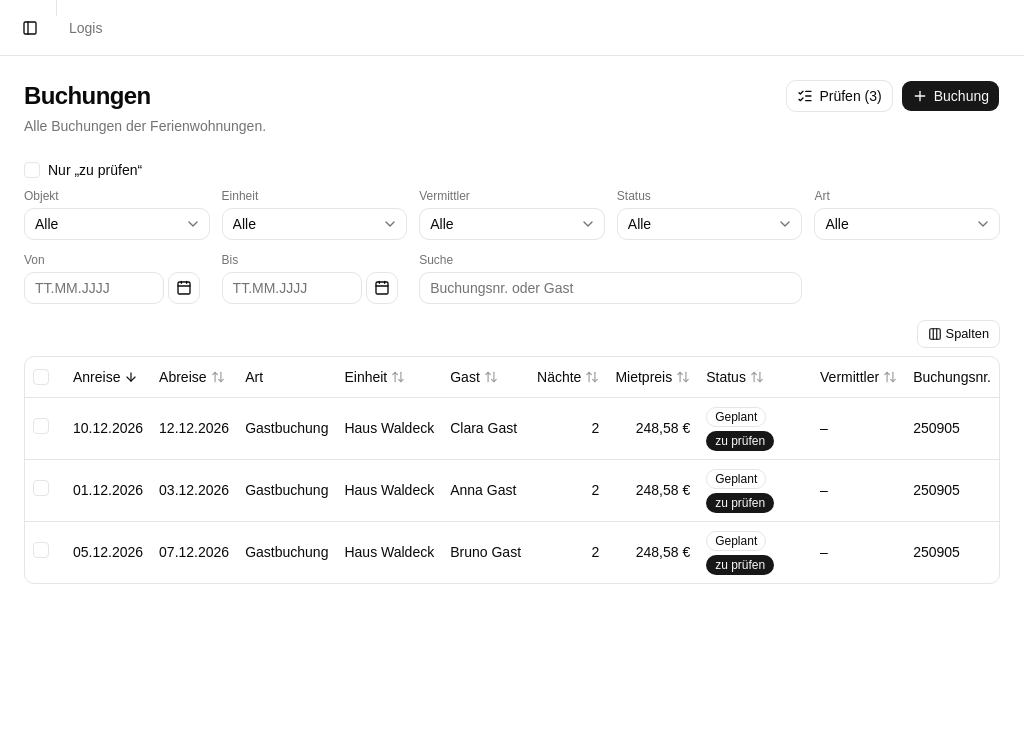
Test: Review mode › starts from the list and clicks through in order of arrival
Step 1. Click the button "Prüfen (3)" → coordinates (840, 96), box [786,80,893,112]
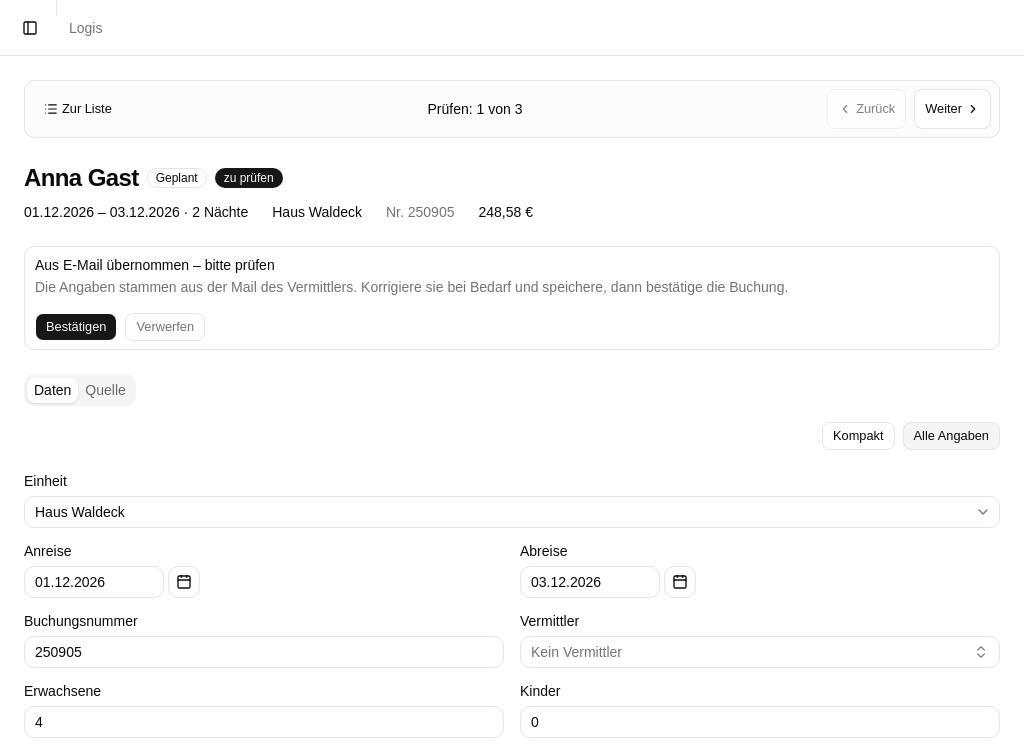
expect the heading "Anna Gast" is shown: met, box [24,162,139,194]
expect the navigation bar "Prüfen" shows "1 von 3": met, box [476,101,522,117]
expect the button "Zurück" is disabled: met, box [827,89,906,129]
Step 2. Click the button "Weiter" → coordinates (953, 109), box [914,89,991,129]
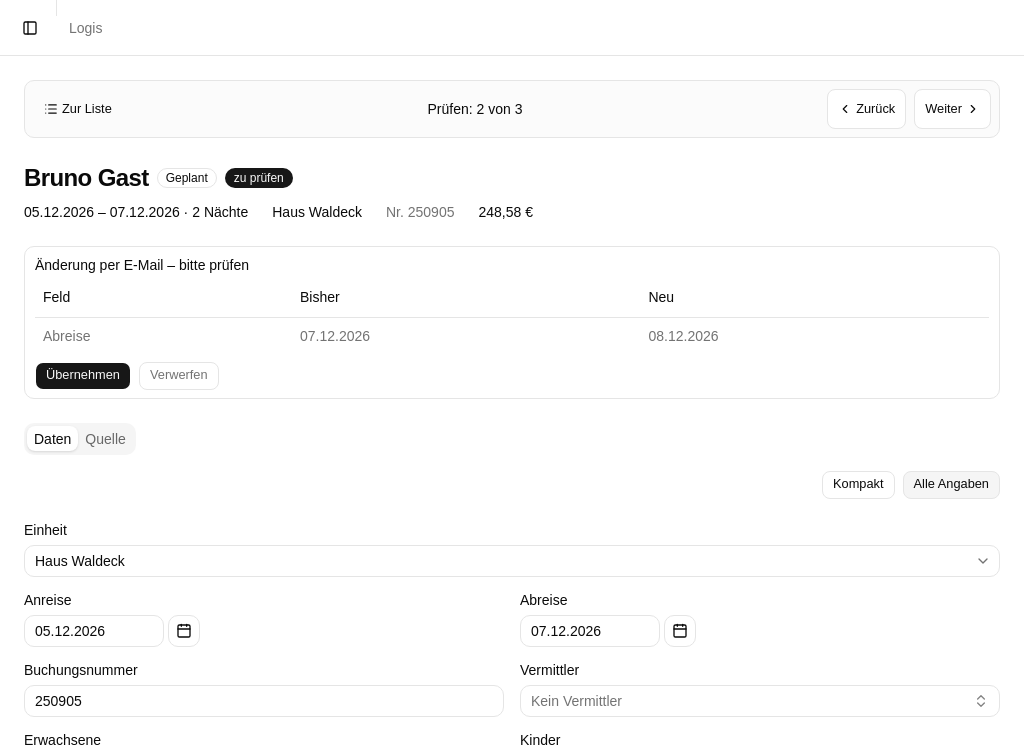
expect the heading "Bruno Gast" is shown: met, box [24,162,149,194]
expect the navigation bar "Prüfen" shows "2 von 3": met, box [476,101,522,117]
The arrow keys move as well, as long as no field has the focus.
Step 3. Press ArrowRight
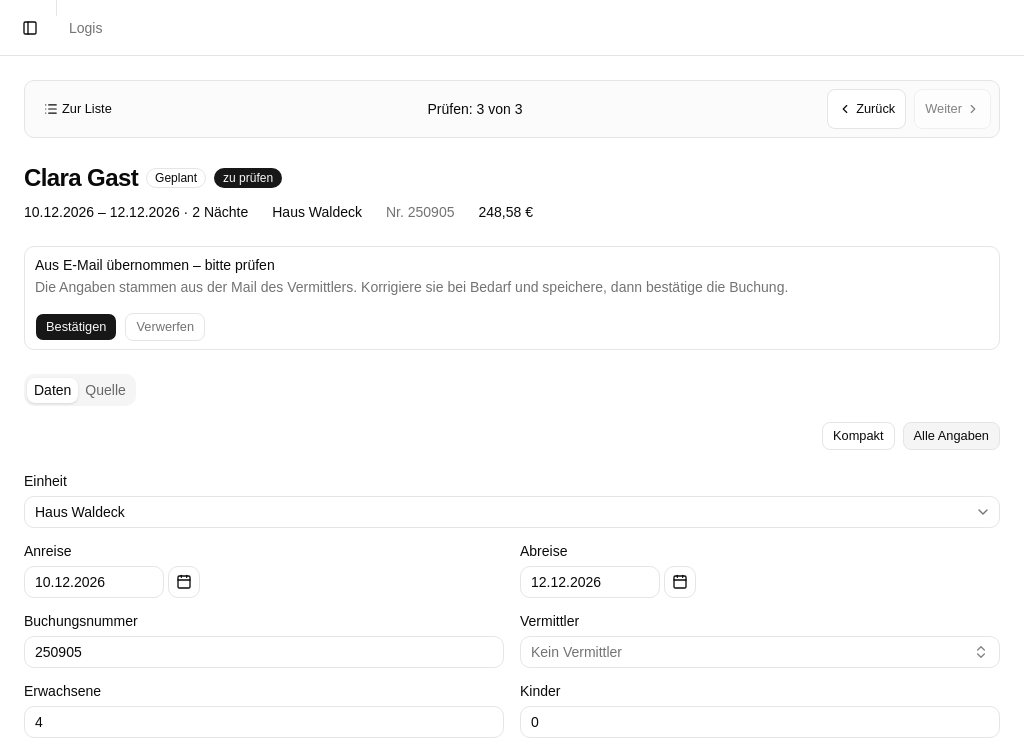
expect the heading "Clara Gast" is shown: met, box [24,162,138,194]
expect the button "Weiter" is disabled: met, box [914,89,991,129]
Step 4. Press ArrowLeft
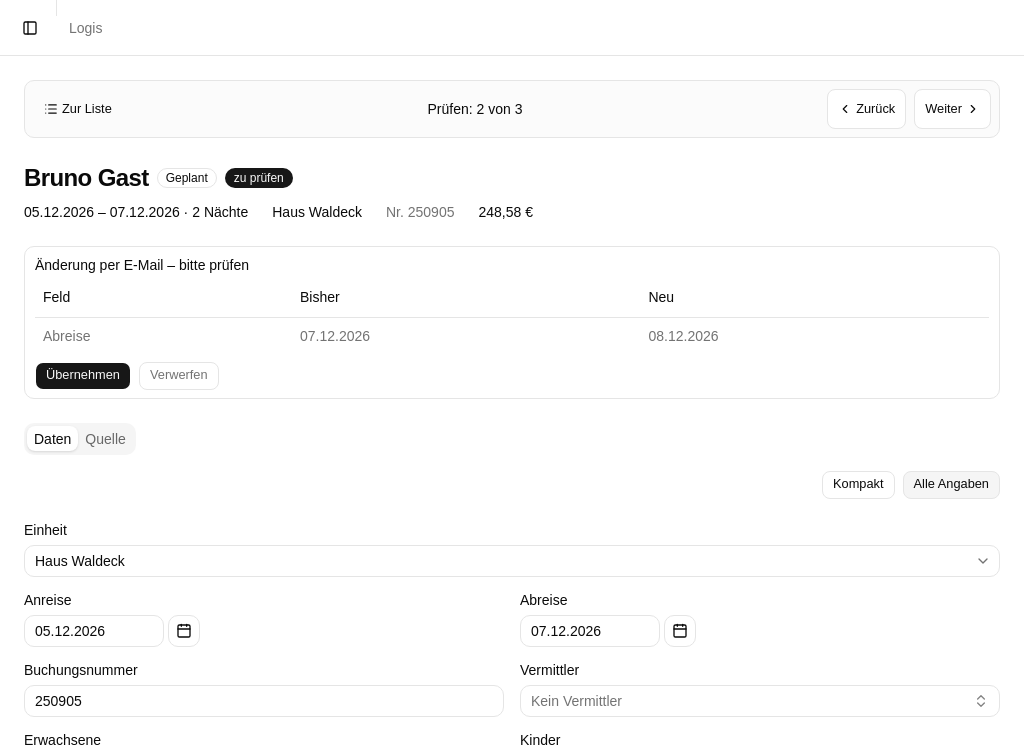
expect the heading "Bruno Gast" is shown: met, box [24,162,149,194]
